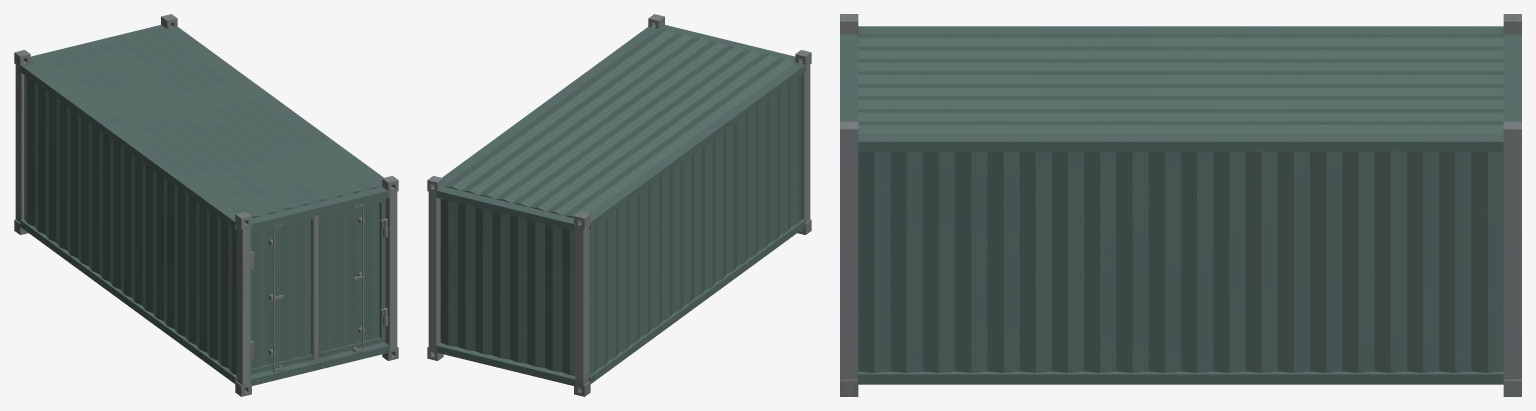
File: shipping_container_single.glb
The picture shows the model from 3 angles, left to right: view 1: azimuth 30°, elevation 25°; view 2: azimuth 150°, elevation 25°; view 3: azimuth 270°, elevation 25°; orthographic projection. The views are drawn at different scales.
Visible parts, largest first — view 1: ShippingContainerSingle; view 2: ShippingContainerSingle; view 3: ShippingContainerSingle.
Part boxes in pixels (x1,y1,x2,y2): ShippingContainerSingle: (14,14,398,396); ShippingContainerSingle: (427,14,811,396); ShippingContainerSingle: (840,14,1521,396).
Size of what is drawn, in the model's own units: 2.4 by 2.6 by 6.
1 material, 1 textured.
